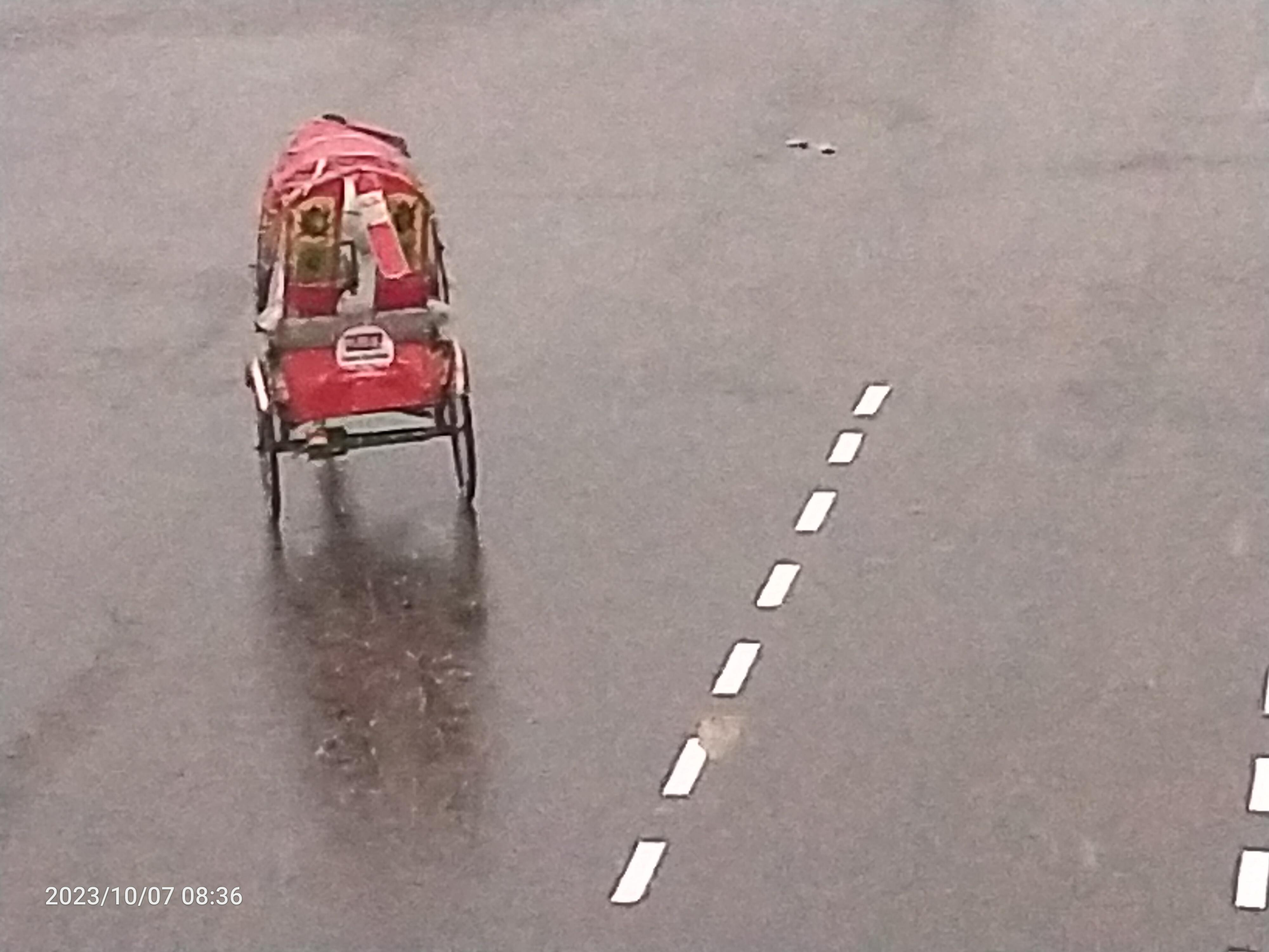Car: (196, 90, 529, 565)
